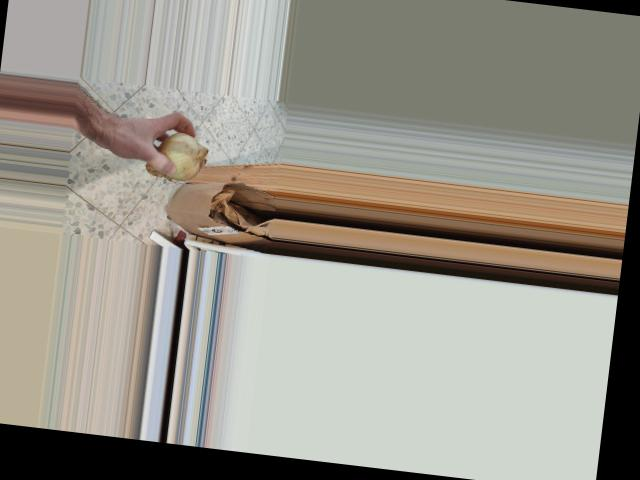onion: (143, 125, 212, 186)
